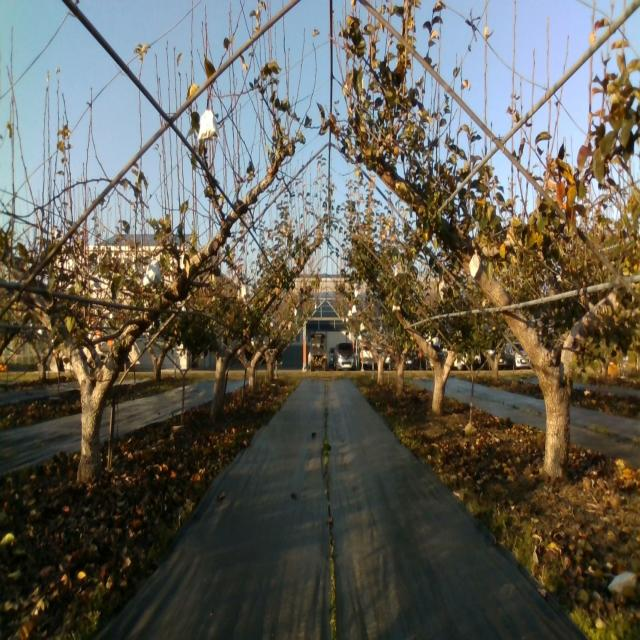pearbags: (198, 110, 220, 140), (143, 259, 163, 285), (469, 250, 482, 282)
